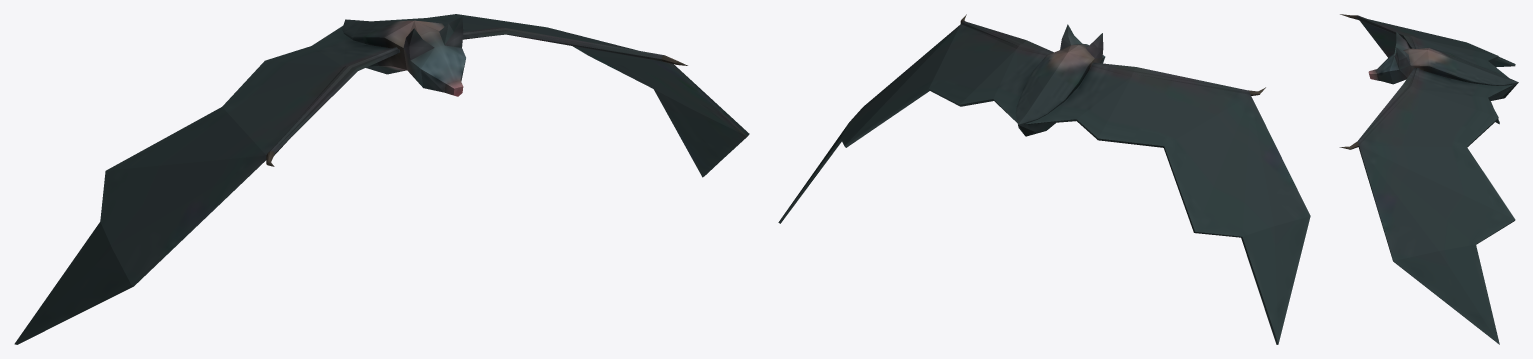
File: v_bat.glb
3 renders of one model, left to right at view 1: azimuth 30°, elevation 25°; view 2: azimuth 150°, elevation 25°; view 3: azimuth 270°, elevation 25°, orthographic. The views are drawn at different scales.
Visible parts, largest first — view 1: Bat_mesh; view 2: Bat_mesh; view 3: Bat_mesh.
Part boxes in pixels (bbox=[...]): Bat_mesh: bbox=[14, 14, 749, 344]; Bat_mesh: bbox=[778, 14, 1310, 344]; Bat_mesh: bbox=[1339, 14, 1518, 344].
Size of the model in its own units: 0.24 by 0.0984 by 0.0821.
1 material, 1 textured.
